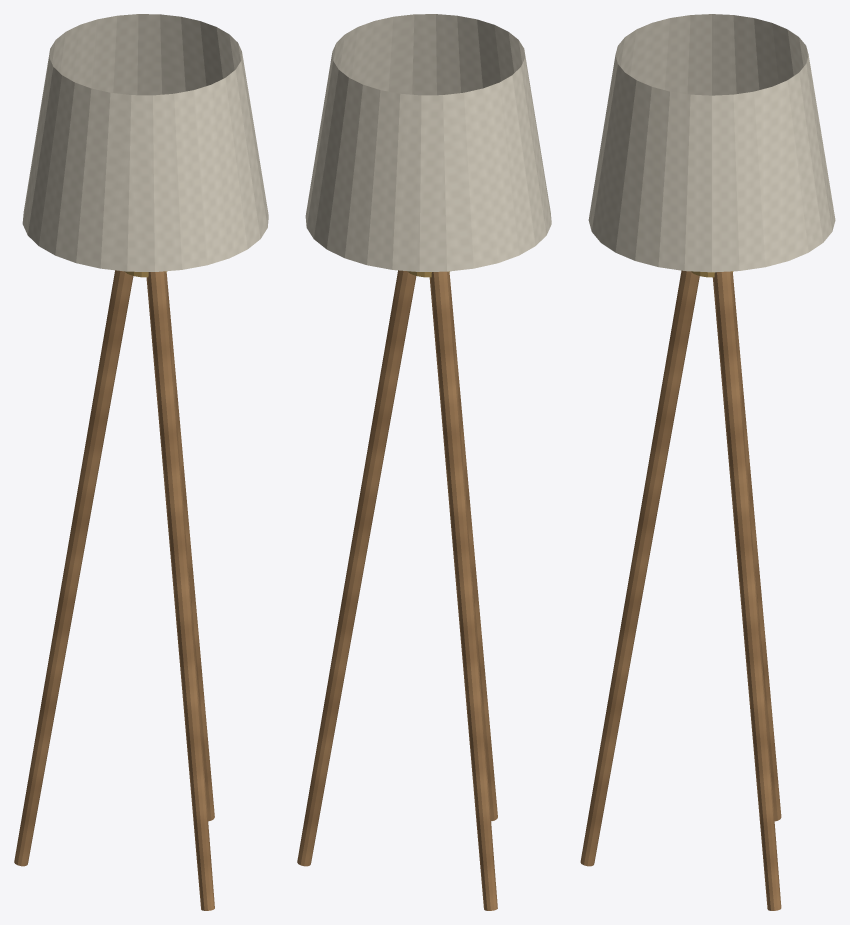
Rendered from floor_lamp.obj.
3 views of the same model, side by side, from view 1: azimuth 30°, elevation 25°; view 2: azimuth 150°, elevation 25°; view 3: azimuth 270°, elevation 25° (orthographic).
Visible parts, largest first — view 1: LinenShade, TripodLeg_2, TripodLeg_1, TripodLeg_0; view 2: LinenShade, TripodLeg_1, TripodLeg_0, TripodLeg_2; view 3: LinenShade, TripodLeg_0, TripodLeg_2, TripodLeg_1.
Boxes of the visible parts, x1,y1,x2,y2 form: LinenShade: (22, 14, 268, 271); TripodLeg_2: (146, 271, 214, 910); TripodLeg_1: (14, 270, 133, 866); TripodLeg_0: (165, 272, 214, 821); LinenShade: (305, 14, 551, 271); TripodLeg_1: (429, 271, 497, 910); TripodLeg_0: (297, 270, 416, 866); TripodLeg_2: (448, 272, 497, 821); LinenShade: (588, 14, 835, 272); TripodLeg_0: (712, 271, 781, 910); TripodLeg_2: (580, 270, 699, 866); TripodLeg_1: (731, 272, 781, 821).
Size of the model in its own units: 0.46 by 1.66 by 0.4752.
Materials: 4 (2 with a texture image).
